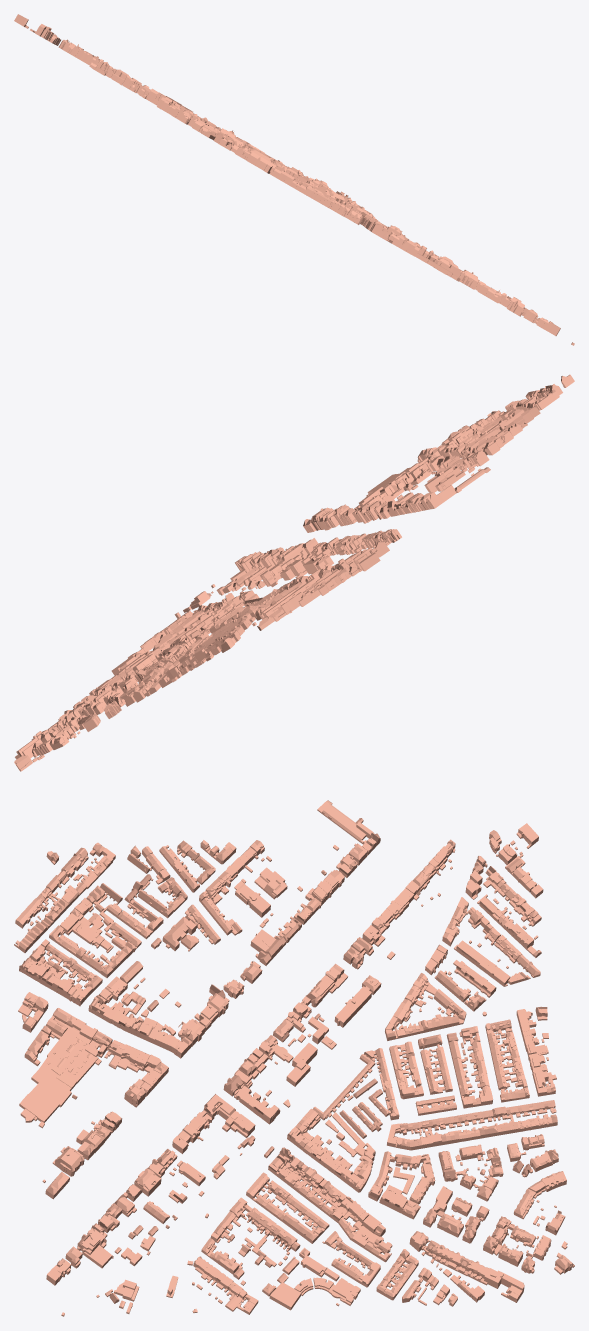
The picture shows the model from 3 angles, top to bottom: view 1: azimuth 30°, elevation 25°; view 2: azimuth 150°, elevation 25°; view 3: azimuth 270°, elevation 25°; orthographic projection. The views are drawn at different scales.
Bounding box in the file's own units: 548 × 406 × 645.
